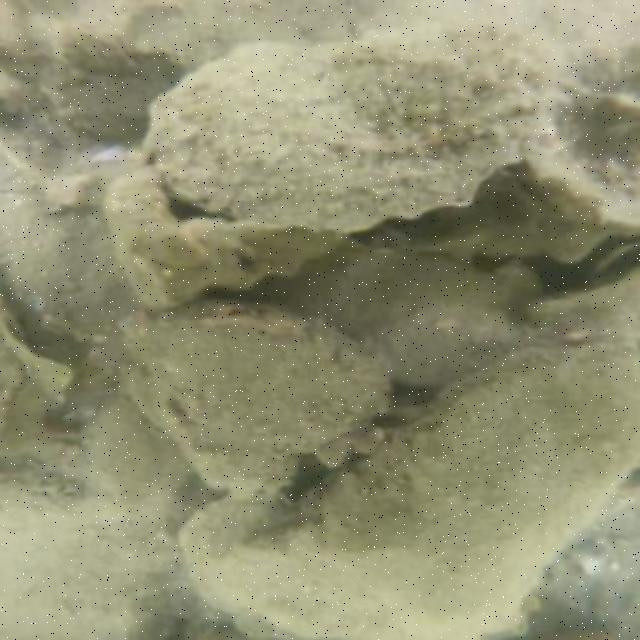Oyster-Closed: (285, 332, 640, 630), (145, 29, 561, 225), (140, 307, 395, 482), (292, 251, 521, 384)
